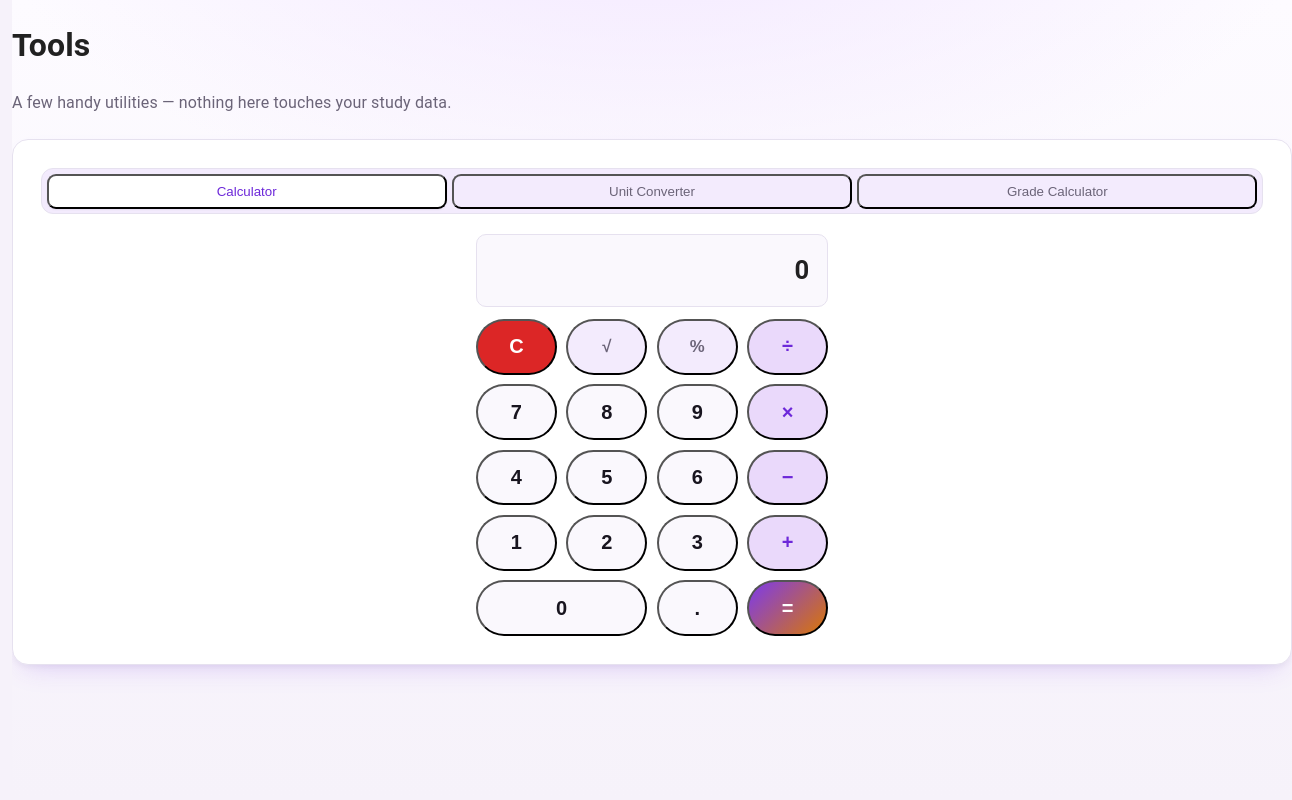
Scenario: ToolsPage › calculator: computes a basic expression
Click the button "1": x=516, y=543 [476,515,557,571]
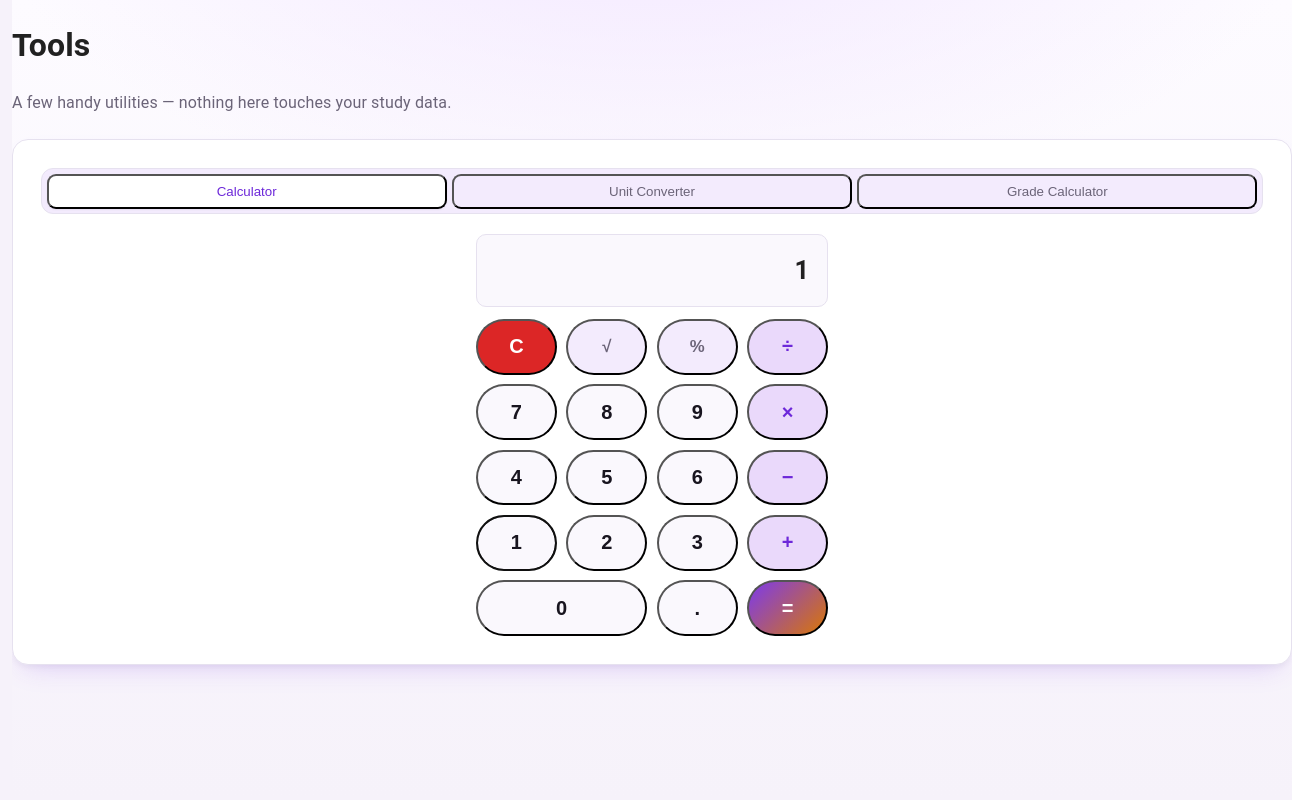
Click the button "2": x=607, y=543 [566,515,647,571]
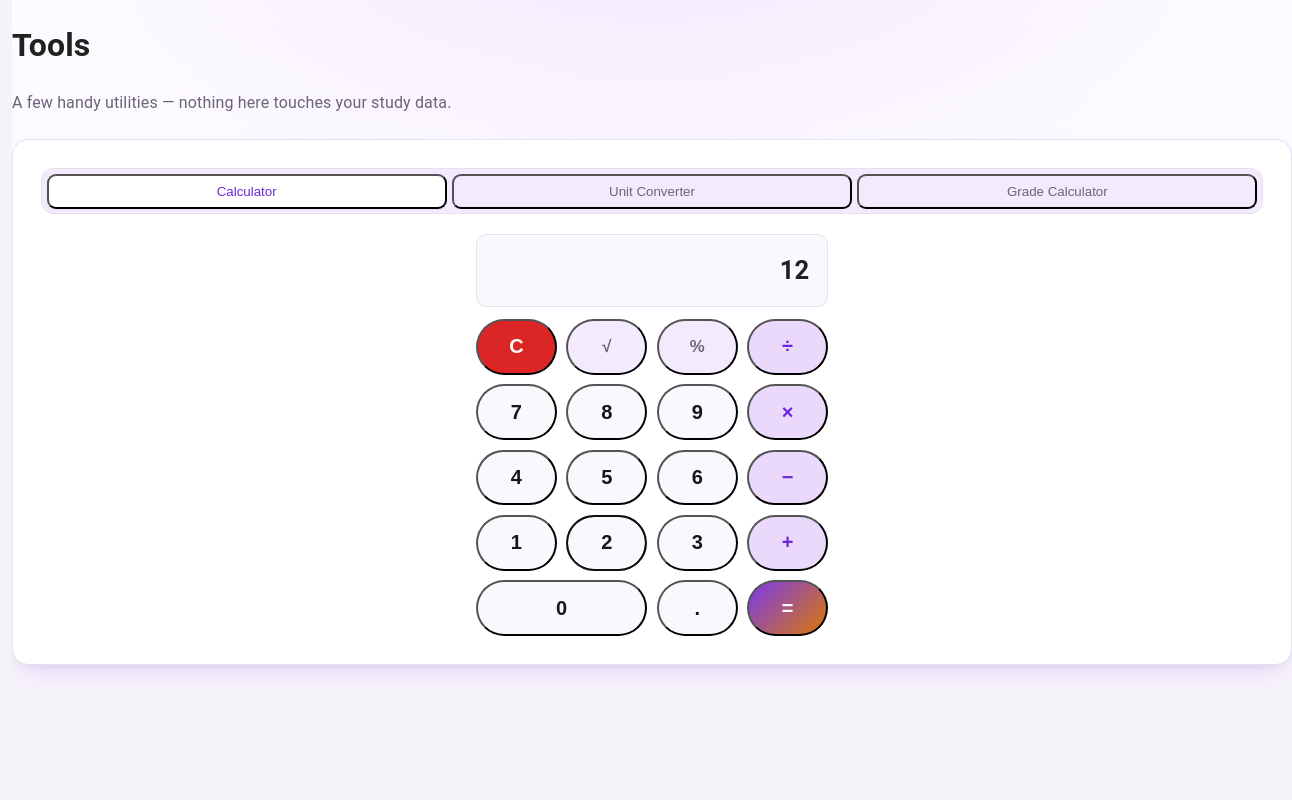
Click the button "+": x=788, y=543 [747,515,828,571]
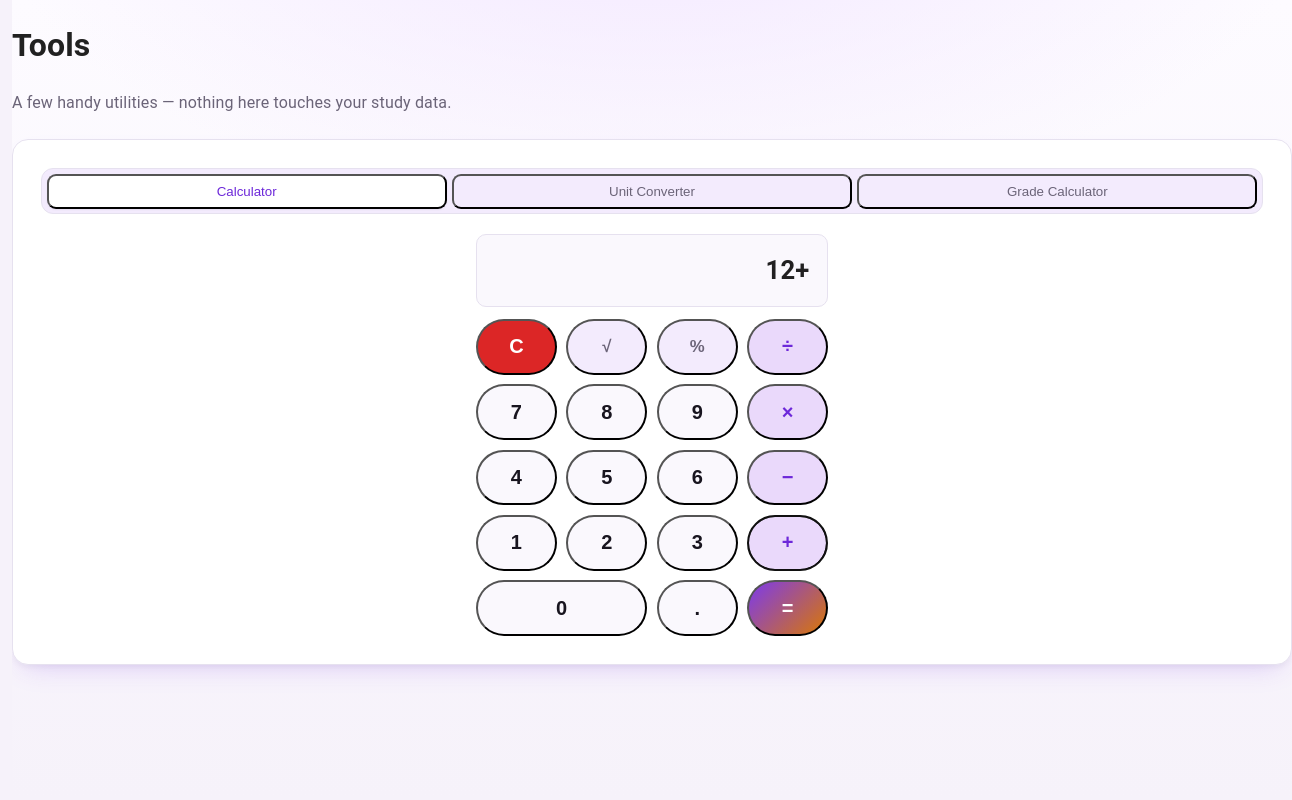
Click the button "8": x=607, y=412 [566,384,647,440]
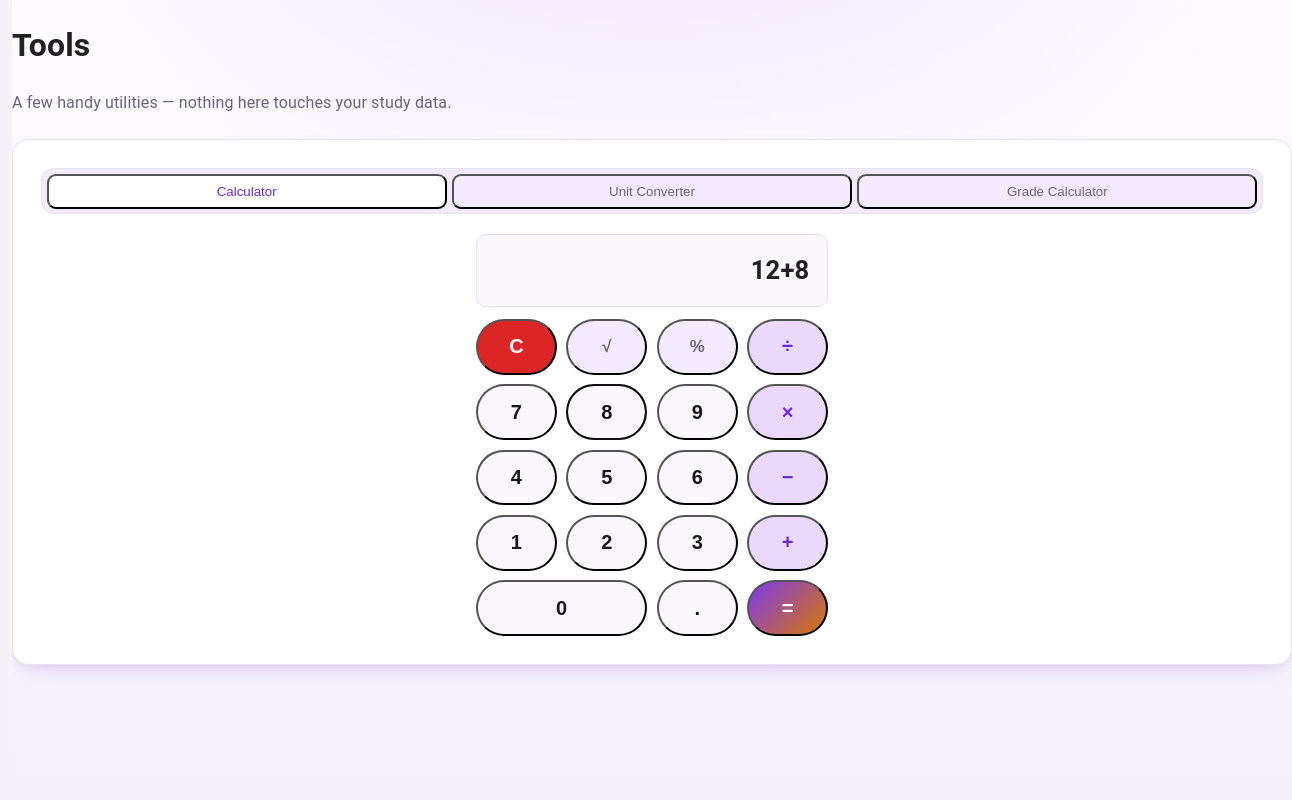
Click the button "=": x=788, y=608 [747,580,828,636]
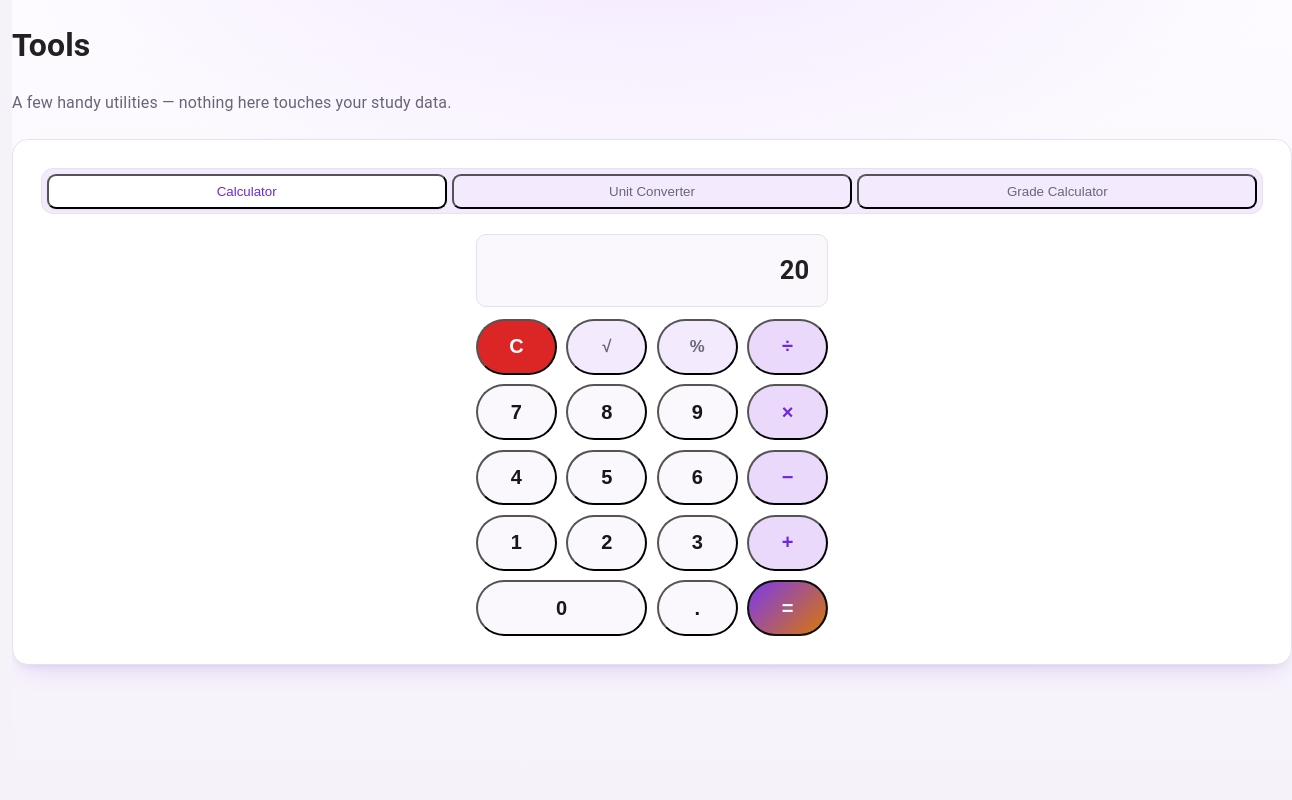
Check: the text "20" is shown, box [476,234,828,307]
